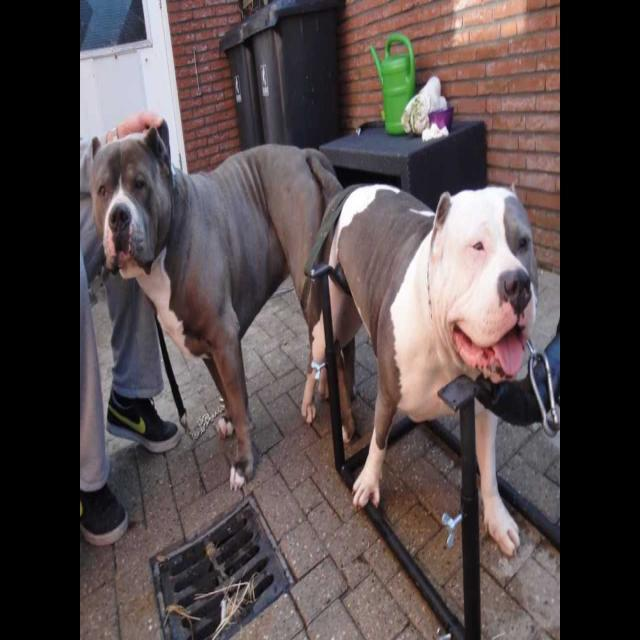dog: (396, 148, 562, 466), (84, 100, 218, 362)
